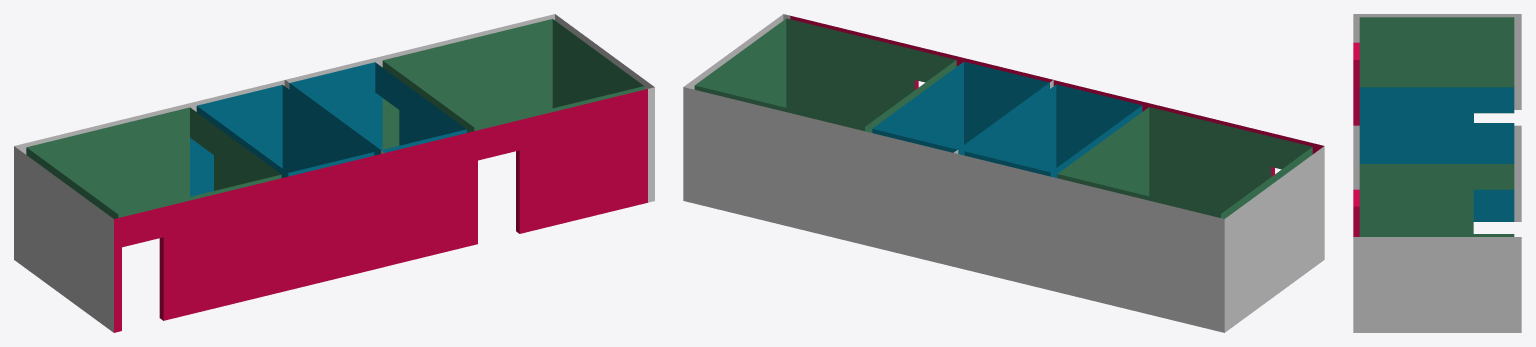
File: Pared 6.fbx
3 renders of one model, left to right at view 1: azimuth 30°, elevation 25°; view 2: azimuth 150°, elevation 25°; view 3: azimuth 270°, elevation 25°, orthographic. The views are drawn at different scales.
Visible parts, largest first — view 1: Pared_6; view 2: Pared_6; view 3: Pared_6.
Boxes of the visible parts, x1,y1,x2,y2 form: Pared_6: [14, 14, 654, 332]; Pared_6: [683, 14, 1324, 332]; Pared_6: [1353, 14, 1521, 332].
Size of the model in its own units: 1490 by 300 by 476.
